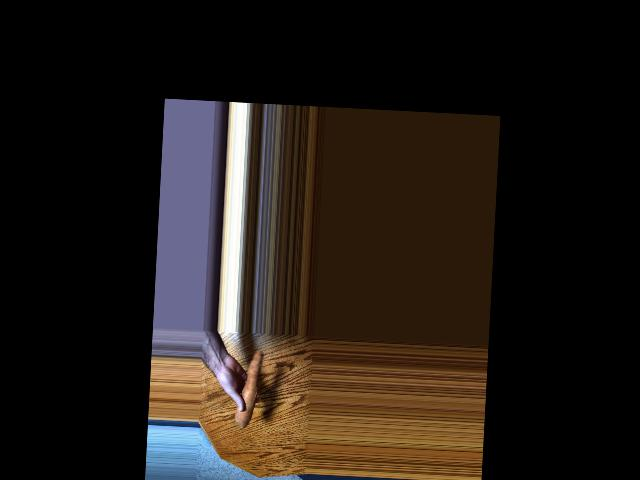sweet_potato: (241, 350, 260, 427)
